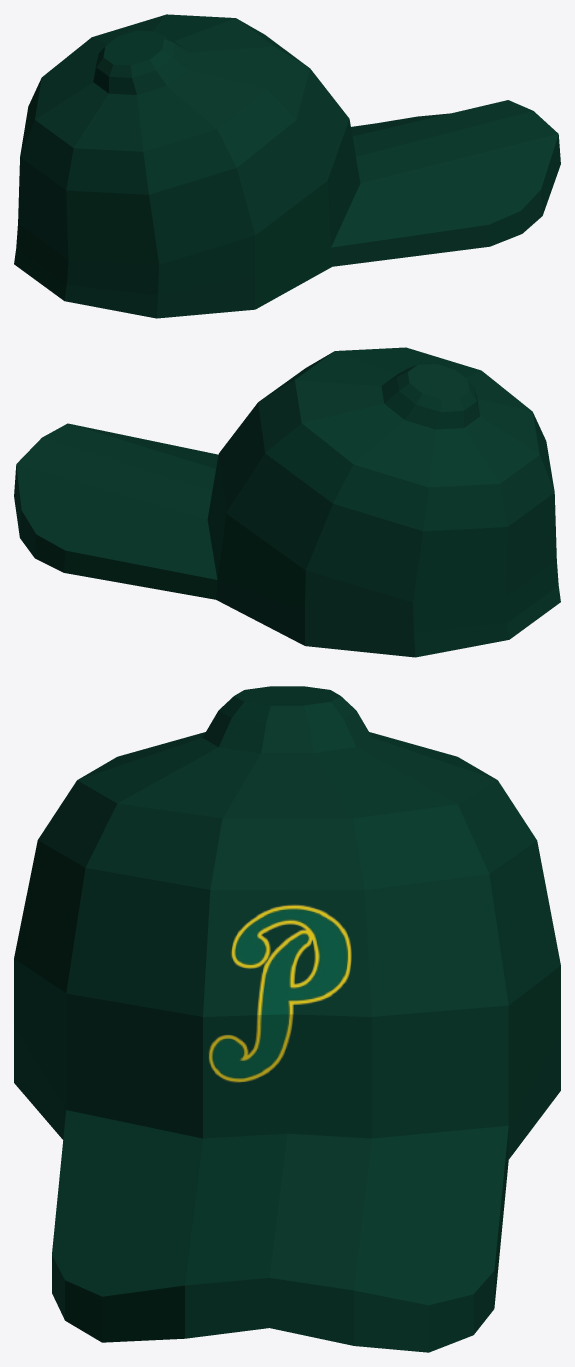
The model's file is GorraPericos.glb.
3 renders of one model, top to bottom at view 1: azimuth 30°, elevation 25°; view 2: azimuth 150°, elevation 25°; view 3: azimuth 270°, elevation 25°, orthographic. The views are drawn at different scales.
Parts seen in each view (by area): view 1: Cylinder; view 2: Cylinder; view 3: Cylinder.
Boxes of the visible parts, left/top/right/bottom form: Cylinder: left=14, top=14, right=560, bottom=318; Cylinder: left=14, top=347, right=560, bottom=657; Cylinder: left=14, top=686, right=560, bottom=1352.
Size of the model in its own units: 7.48 by 3.25 by 4.31.
Materials: 1 (1 with a texture image).
